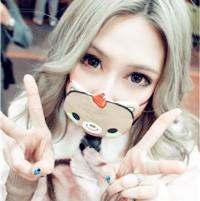face_mask: (65, 11, 158, 136)
